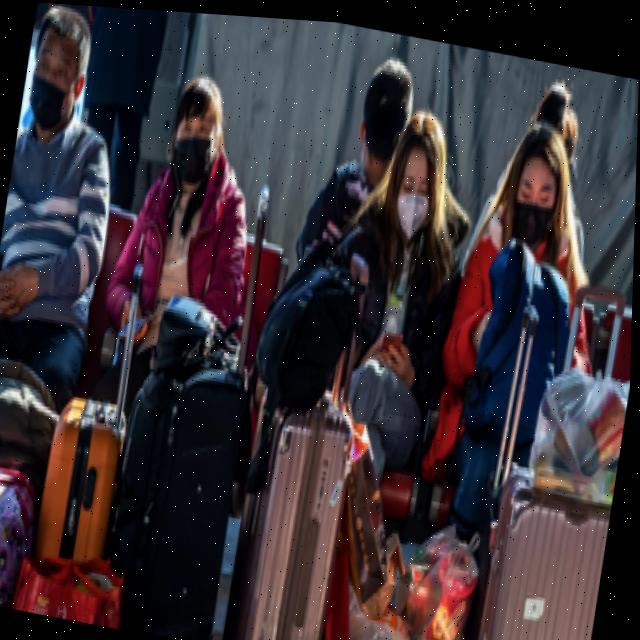Mask: (23, 43, 89, 136), (503, 163, 563, 246), (163, 115, 224, 189), (393, 171, 434, 238)
